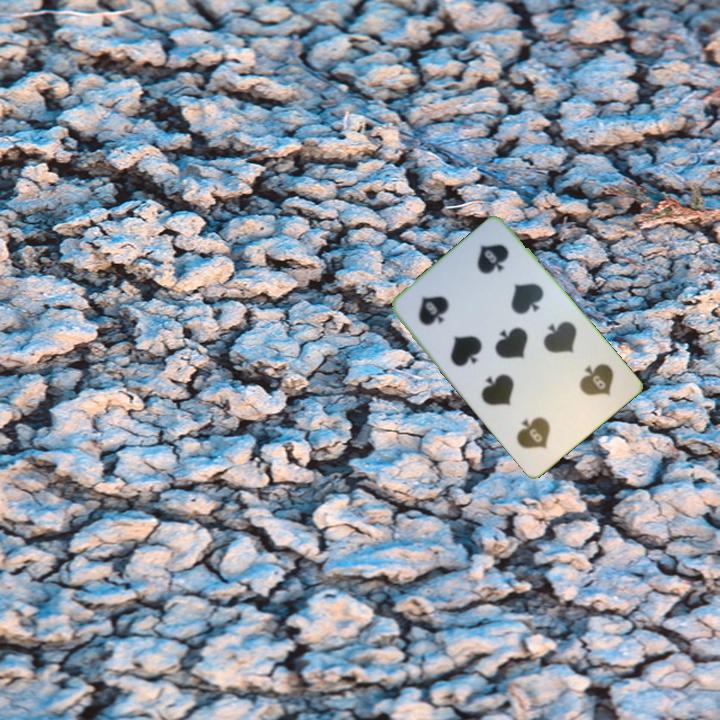s_9.png: (544, 343, 631, 428), (399, 264, 485, 349)
